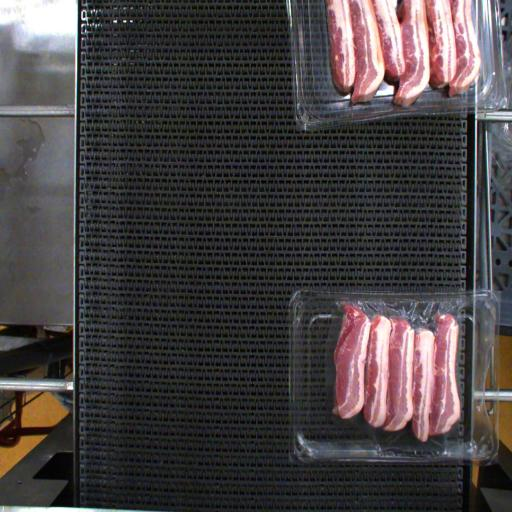unsealed: (325, 299, 467, 441)
